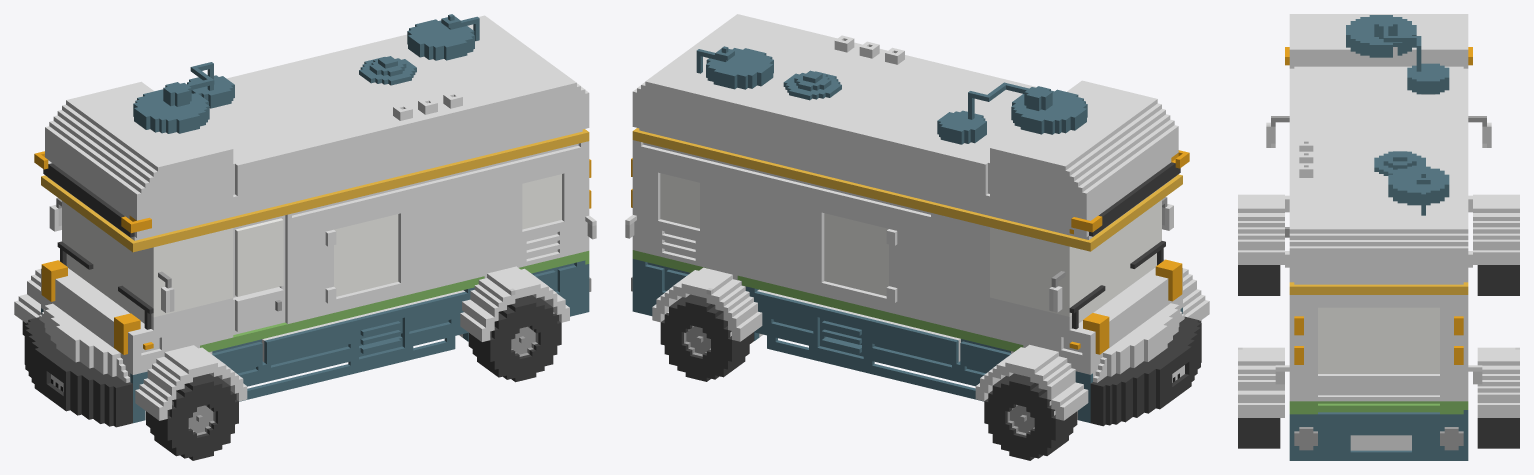
The model's file is camper_van.glb.
The picture shows the model from 3 angles, left to right: view 1: azimuth 30°, elevation 25°; view 2: azimuth 150°, elevation 25°; view 3: azimuth 270°, elevation 25°; orthographic projection. The views are drawn at different scales.
Visible parts, largest first — view 1: Object_2; view 2: Object_2; view 3: Object_2.
Part boxes in pixels (x1,y1,x2,y2): Object_2: (14,14,596,460); Object_2: (625,14,1209,460); Object_2: (1238,14,1519,460).
Bounding box in the file's own units: 119 × 69 × 60.
Materials: 1 (1 with a texture image).
